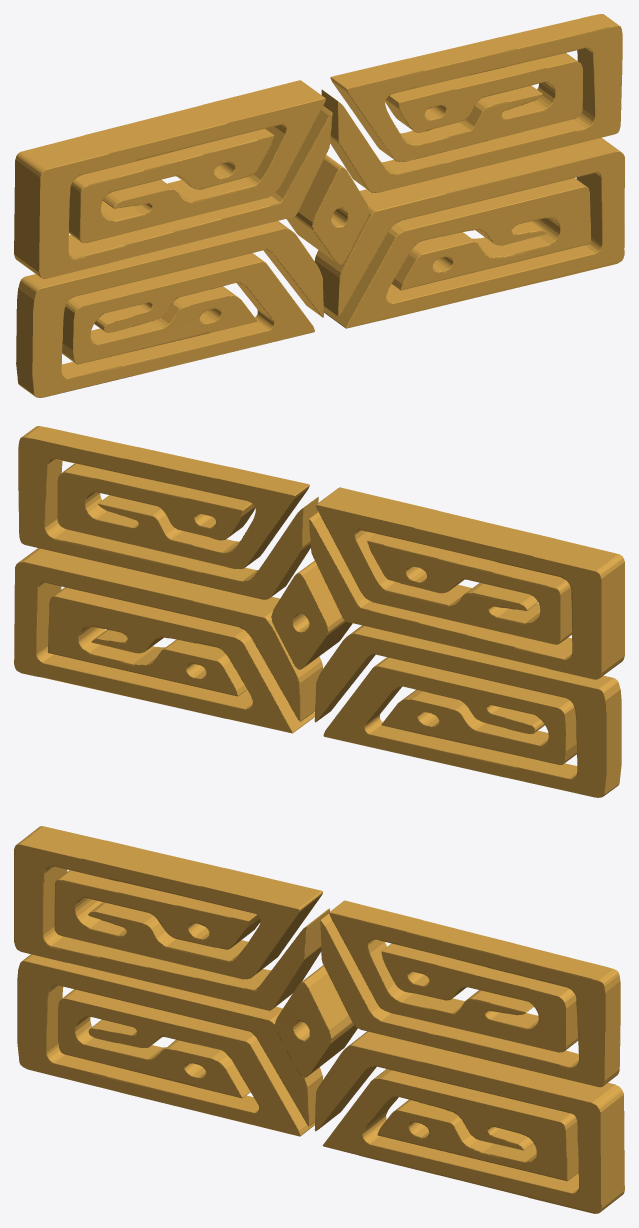
File: templegoldpeice6.glb
3 views of the same model, one above another, from view 1: azimuth 30°, elevation 25°; view 2: azimuth 150°, elevation 25°; view 3: azimuth 330°, elevation 25° (orthographic).
Parts seen in each view (by area): view 1: Selection #1.003; view 2: Selection #1.003; view 3: Selection #1.003.
Boxes of the visible parts, left/top/right/bottom form: Selection #1.003: left=14, top=14, right=624, bottom=397; Selection #1.003: left=14, top=426, right=624, bottom=797; Selection #1.003: left=14, top=826, right=624, bottom=1213.
Bounding box in the file's own units: 0.7422 × 0.2882 × 0.0836.
